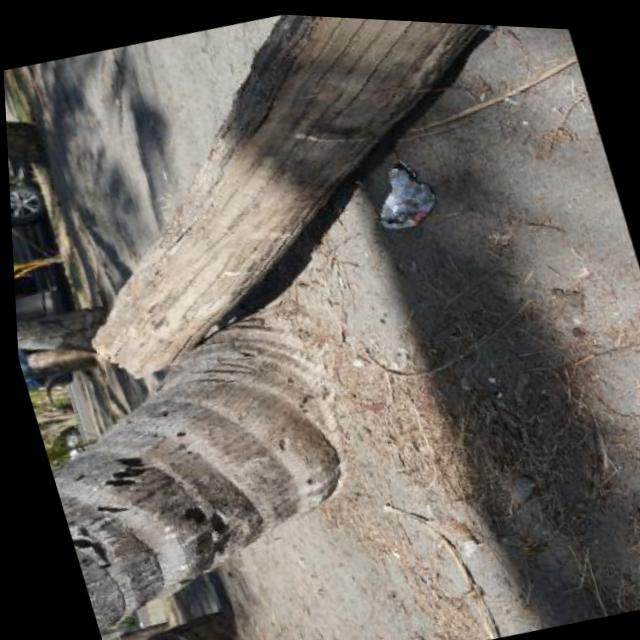plastic: (363, 151, 446, 236)
